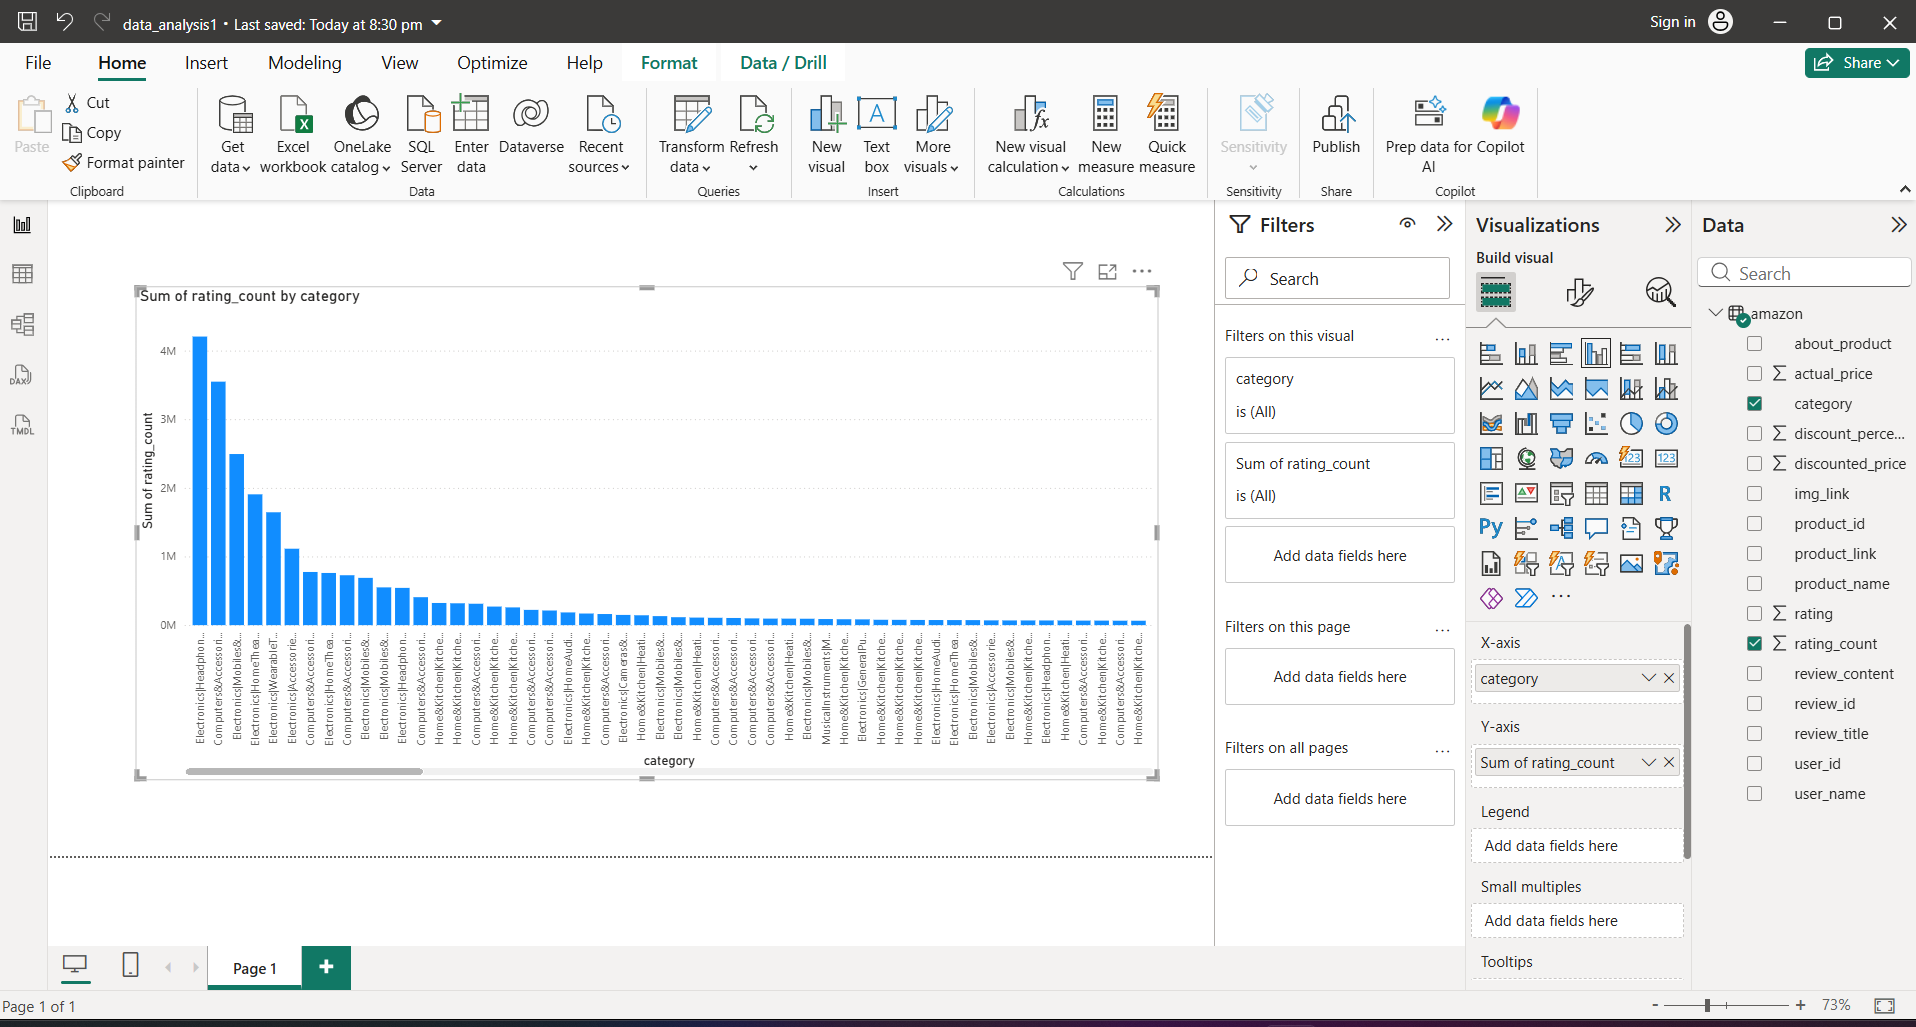

What the dashboard file says about the page in this screenshot:
{"tool":"powerbi","page":{"name":"Page 1","canvas":[1280,720],"ordinal":0},"visuals":[{"type":"clusteredColumnChart","fields":{"Y":["Sum(amazon.rating_count)"],"Category":["amazon.category"]},"box":[96.1,94.7,502.2,388.3],"z":1}]}

Visuals, with their boxes on the page's 1280x720 design canvas (x1, y1, x2, y2). These are canvas units, not pixel positions in the 1916x1027 screenshot, which may show the page scaled, cropped or inside an application window:
clusteredColumnChart - Sum(amazon.rating_count) x amazon.category: left=96, top=95, right=598, bottom=483
